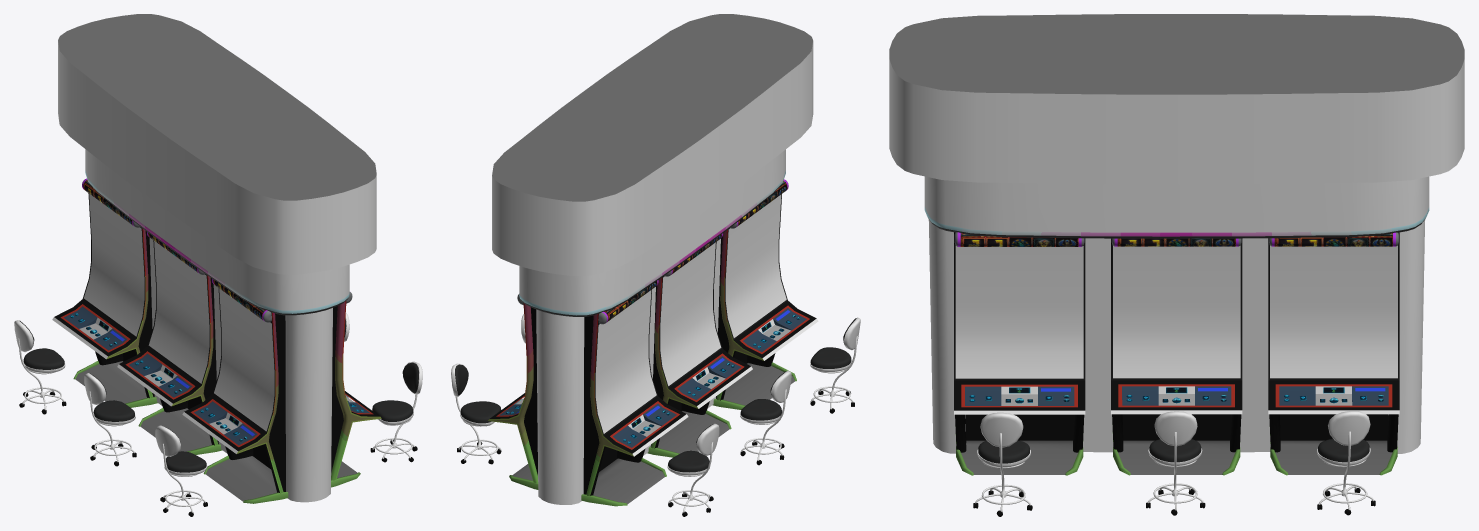
File: AutomatLongIsland.fbx
3 renders of one model, left to right at view 1: azimuth 30°, elevation 25°; view 2: azimuth 150°, elevation 25°; view 3: azimuth 270°, elevation 25°, orthographic. The views are drawn at different scales.
Parts seen in each view (by area): view 1: EffectObjectFade.003, SlotMashine.011, SlotMashine.009, SlotMashine.010, SlotMashine.012, GameChair.019, GameChair.020, GameChair.025, GameChair.021; view 2: EffectObjectFade.003, SlotMashine.009, SlotMashine.011, SlotMashine.010, SlotMashine.015, GameChair.021, GameChair.020, GameChair.019, GameChair.023; view 3: EffectObjectFade.003, SlotMashine.015, SlotMashine.012, SlotMashine.014, GameChair.024, GameChair.025, GameChair.023.
Part boxes in pixels (x1,y1,x2,y2): EffectObjectFade.003: (58,14,376,502); SlotMashine.011: (182,279,288,503); SlotMashine.009: (52,178,157,407); SlotMashine.010: (117,232,222,454); SlotMashine.012: (331,292,381,487); GameChair.019: (155,425,207,516); GameChair.020: (84,373,136,466); GameChair.025: (370,361,422,462); GameChair.021: (14,320,66,414); EffectObjectFade.003: (492,14,813,504); SlotMashine.009: (581,280,688,506); SlotMashine.011: (712,179,818,409); SlotMashine.010: (647,233,752,457); SlotMashine.015: (488,294,538,489); GameChair.021: (667,423,719,516); GameChair.020: (740,370,791,465); GameChair.019: (810,317,860,413); GameChair.023: (451,363,501,464); EffectObjectFade.003: (889,14,1464,453); SlotMashine.015: (1268,232,1399,475); SlotMashine.012: (954,232,1085,475); SlotMashine.014: (1111,238,1242,475); GameChair.024: (1146,411,1205,515); GameChair.025: (973,412,1032,516); GameChair.023: (1317,411,1375,515).
Size of the model in its own units: 370 by 432 by 580.
Materials: 10 (4 with a texture image).
